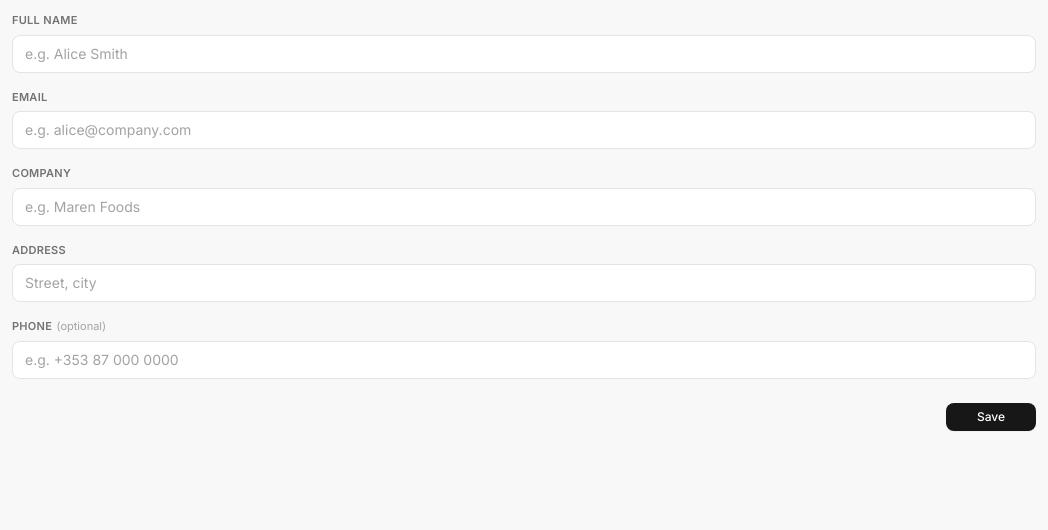
Test: UserForm › shows validation errors and does not submit when fields are invalid
Click the button "Save" at (991, 416), box [946, 402, 1036, 430]
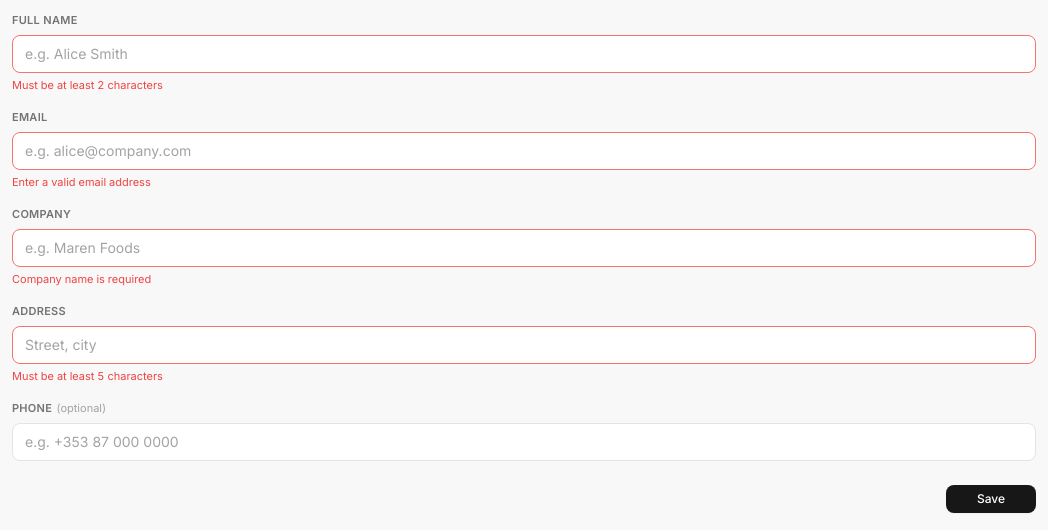
Expected: the text "Must be at least 2 characters" is shown, [12, 78, 163, 92]
